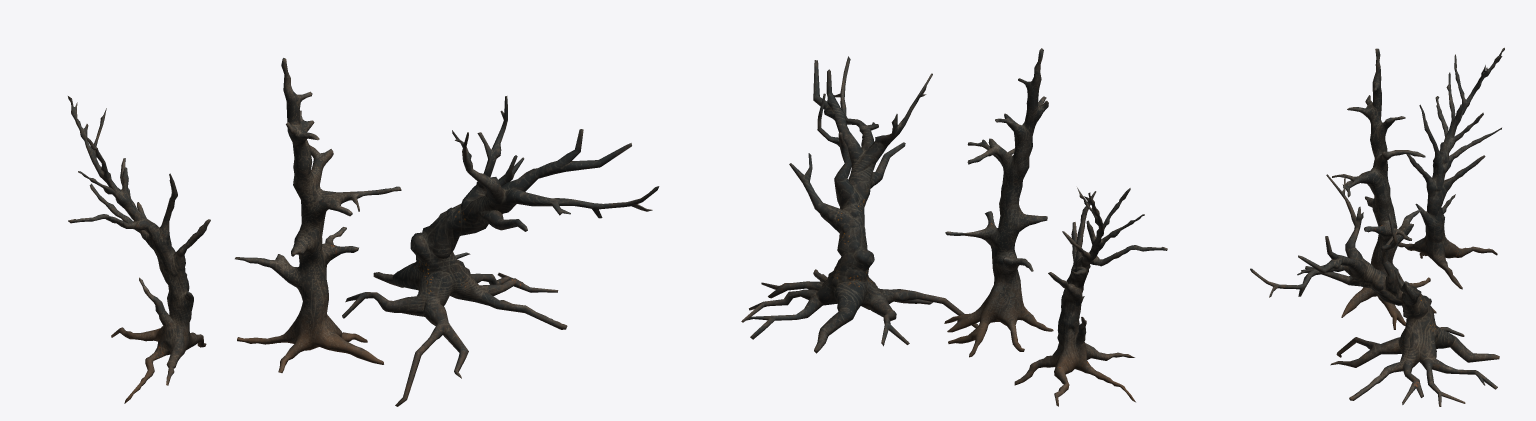
3 renders of one model, left to right at view 1: azimuth 30°, elevation 25°; view 2: azimuth 150°, elevation 25°; view 3: azimuth 270°, elevation 25°, orthographic. The views are drawn at different scales.
Parts seen in each view (by area): view 1: tree2, tree1, tree3; view 2: tree2, tree1, tree3; view 3: tree2, tree3, tree1.
Boxes of the visible parts, x1,y1,x2,y2 form: tree2: (342, 96, 659, 406); tree1: (235, 58, 401, 372); tree3: (68, 96, 210, 403); tree2: (741, 56, 978, 353); tree1: (944, 48, 1053, 357); tree3: (1014, 187, 1167, 406); tree2: (1250, 174, 1499, 406); tree3: (1398, 47, 1504, 289); tree1: (1332, 48, 1436, 329).
Bounding box in the file's own units: 1562 × 1016 × 898.
4 materials, 4 textured.
